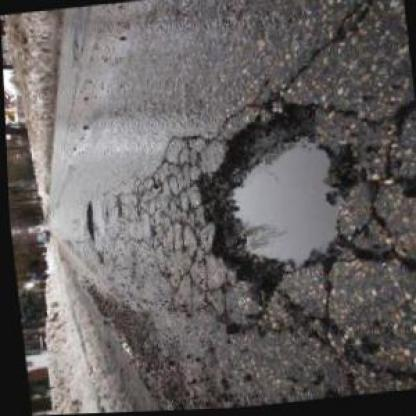pothole: (180, 90, 376, 308), (79, 201, 96, 243)
